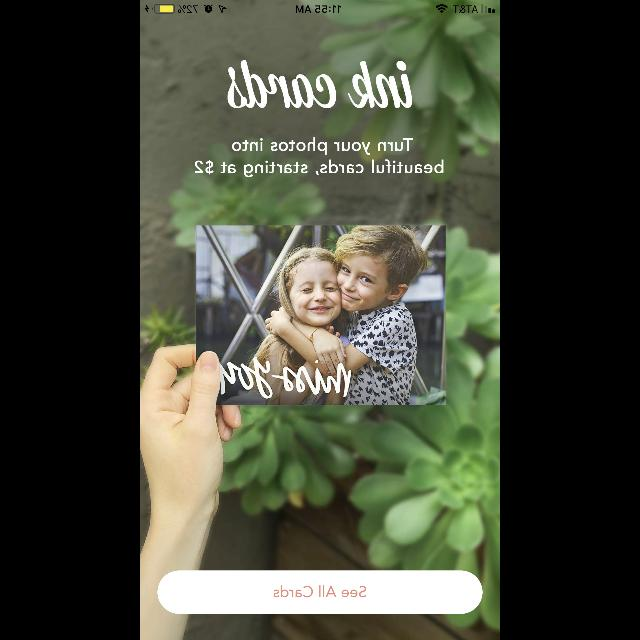backgroundimage: (140, 1, 500, 640)
image: (227, 61, 413, 109)
text: (194, 138, 443, 178)
textbutton: (158, 570, 482, 614)
uppertaskbar: (140, 0, 500, 14)
